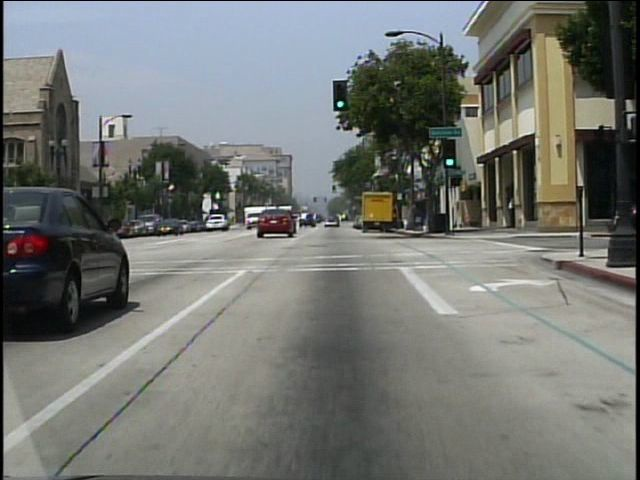person: (506, 195, 514, 229)
